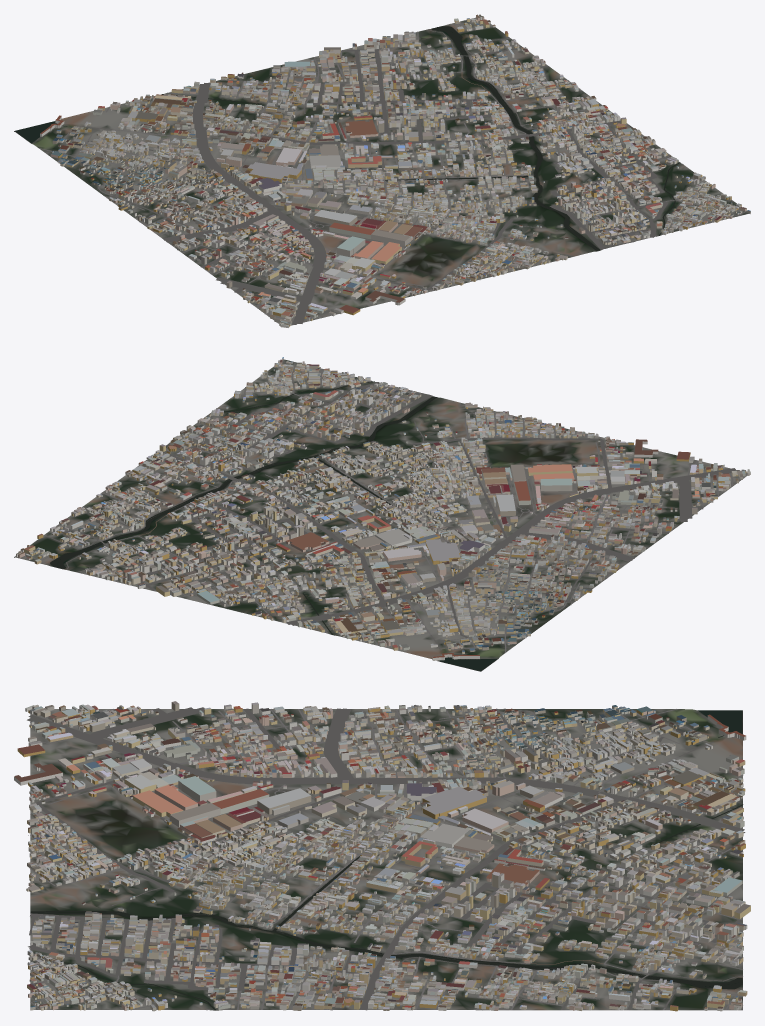
3 views of the same model, one above another, from view 1: azimuth 30°, elevation 25°; view 2: azimuth 150°, elevation 25°; view 3: azimuth 270°, elevation 25° (orthographic). The views are drawn at different scales.
Parts seen in each view (by area): view 1: buildings, ground, roads, water; view 2: buildings, ground, roads, water; view 3: buildings, ground, roads, water.
Boxes of the visible parts, bbox=[...] form: buildings: bbox=[40, 14, 750, 327]; ground: bbox=[14, 17, 750, 325]; roads: bbox=[39, 18, 746, 324]; water: bbox=[15, 26, 680, 250]; buildings: bbox=[16, 357, 750, 660]; ground: bbox=[14, 359, 747, 671]; roads: bbox=[20, 361, 739, 652]; water: bbox=[50, 381, 496, 671]; buildings: bbox=[14, 701, 750, 1011]; ground: bbox=[30, 709, 742, 1010]; roads: bbox=[27, 707, 745, 1010]; water: bbox=[30, 710, 743, 1010].
Bounding box in the file's own units: 1414 × 32.29 × 1448.
